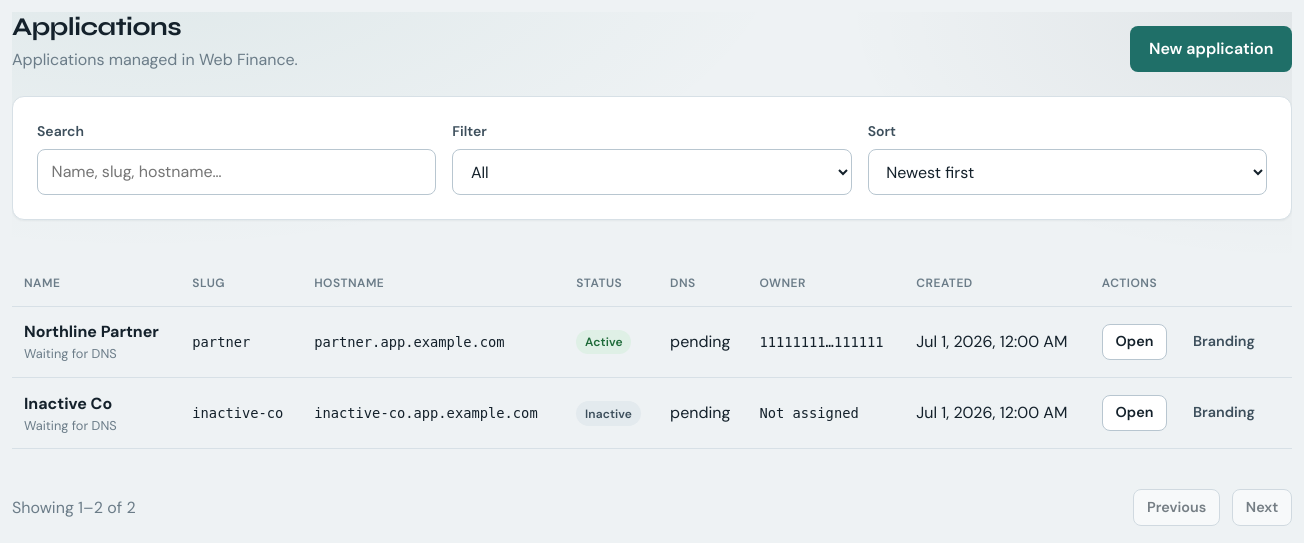
Master applications › filters applications by search and status
expect the text "Northline Partner" is shown: met, box x1=24 y1=321 x2=159 y2=342
In the field labelled "Search": [237, 172] box x1=37 y1=149 x2=436 y2=196, type "inactive"
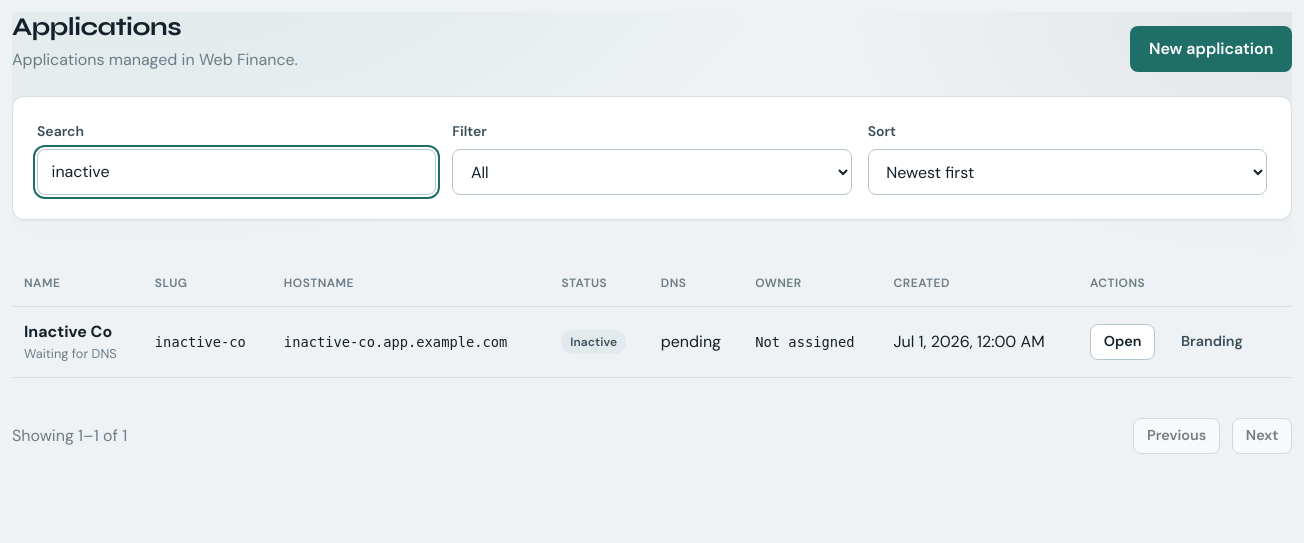
expect the text "Inactive Co" is shown: met, box x1=24 y1=321 x2=112 y2=342
expect the text "Northline Partner" is gone: met
Clear the field labelled "Search": [237, 172] box x1=37 y1=149 x2=436 y2=196
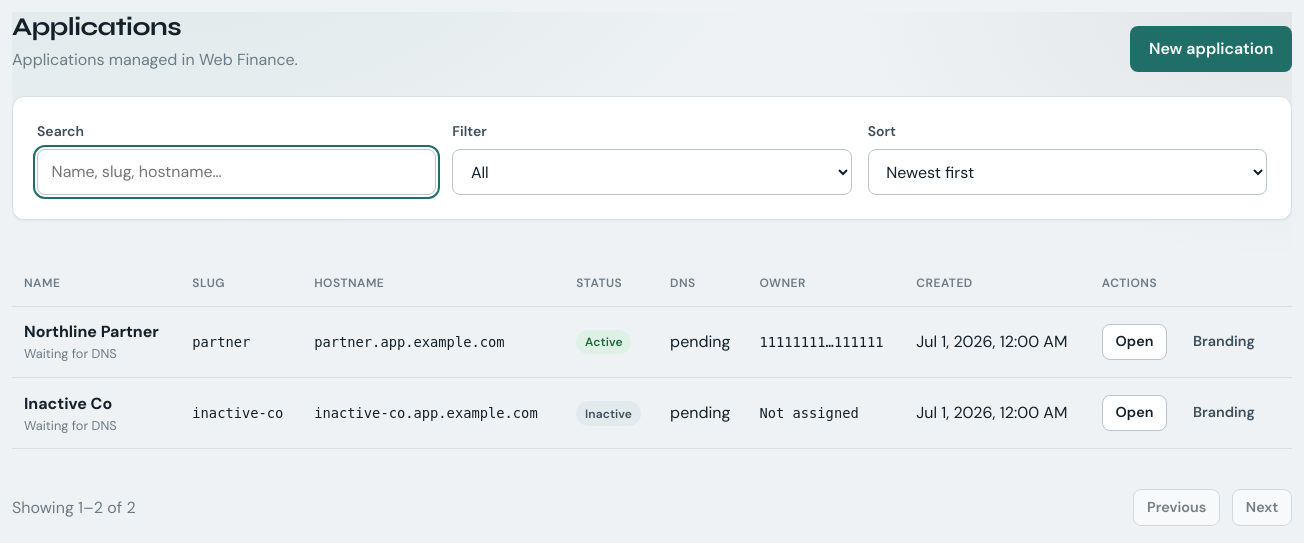
Select "Active" in the dropdown labelled "Filter": [652, 172] box x1=452 y1=149 x2=852 y2=196
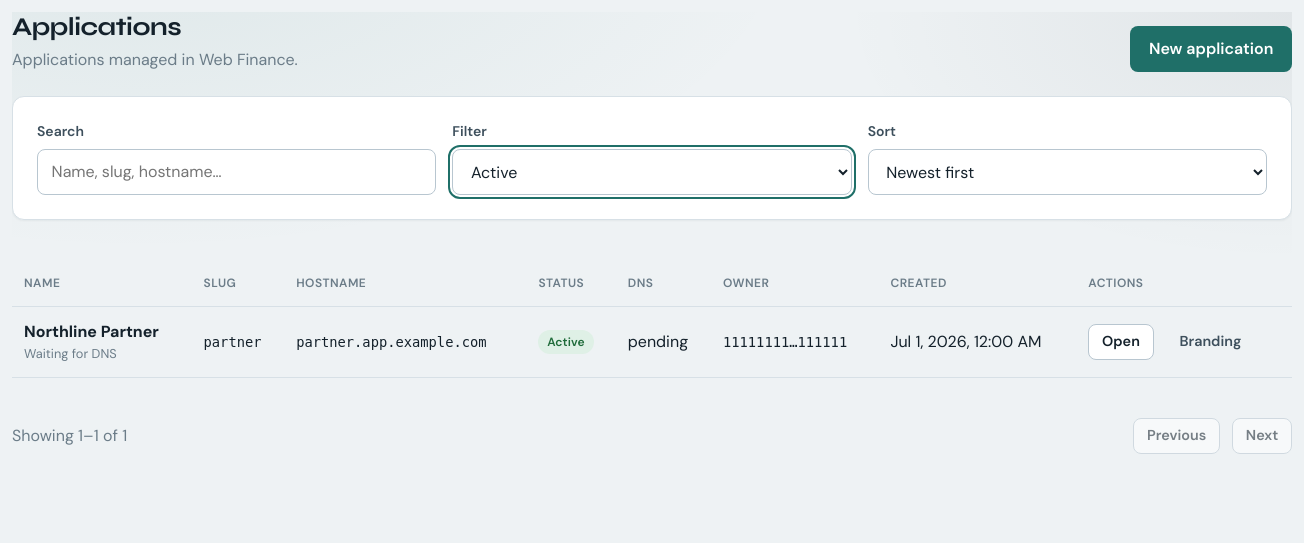
expect the text "Northline Partner" is shown: met, box x1=24 y1=321 x2=159 y2=342
expect the text "Inactive Co" is gone: met
